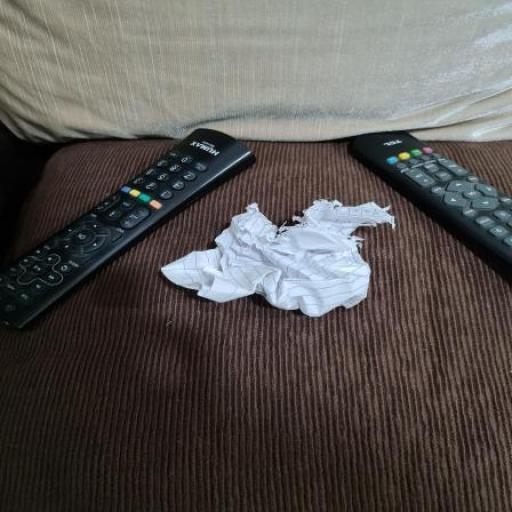paper: (168, 202, 403, 308)
